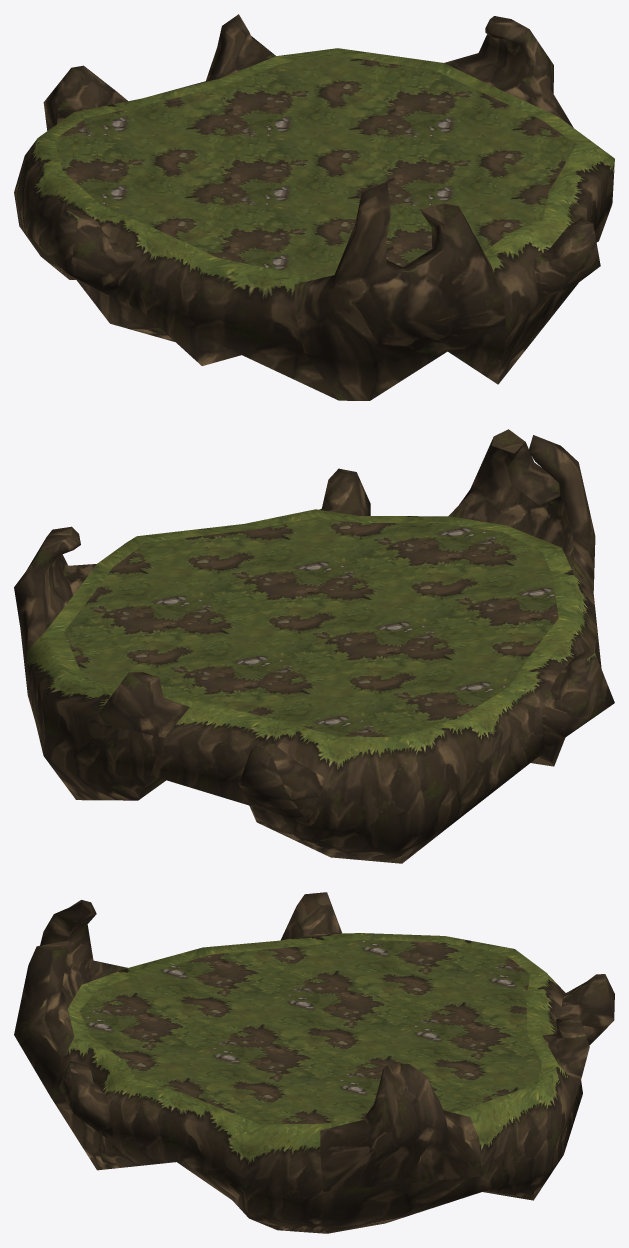
The model's file is F2_dixing_04.FBX.
3 renders of one model, top to bottom at view 1: azimuth 30°, elevation 25°; view 2: azimuth 150°, elevation 25°; view 3: azimuth 270°, elevation 25°, orthographic. The views are drawn at different scales.
Parts seen in each view (by area): view 1: Cylinder41, 对象03; view 2: Cylinder41, 对象03; view 3: Cylinder41, 对象03.
Part boxes in pixels (x1,y1,x2,y2): Cylinder41: (14, 14, 614, 400); 对象03: (54, 54, 576, 278); Cylinder41: (14, 429, 614, 863); 对象03: (64, 517, 558, 737); Cylinder41: (14, 892, 614, 1233); 对象03: (79, 939, 541, 1124).
Bounding box in the file's own units: 18.12 × 7.8 × 19.61.
